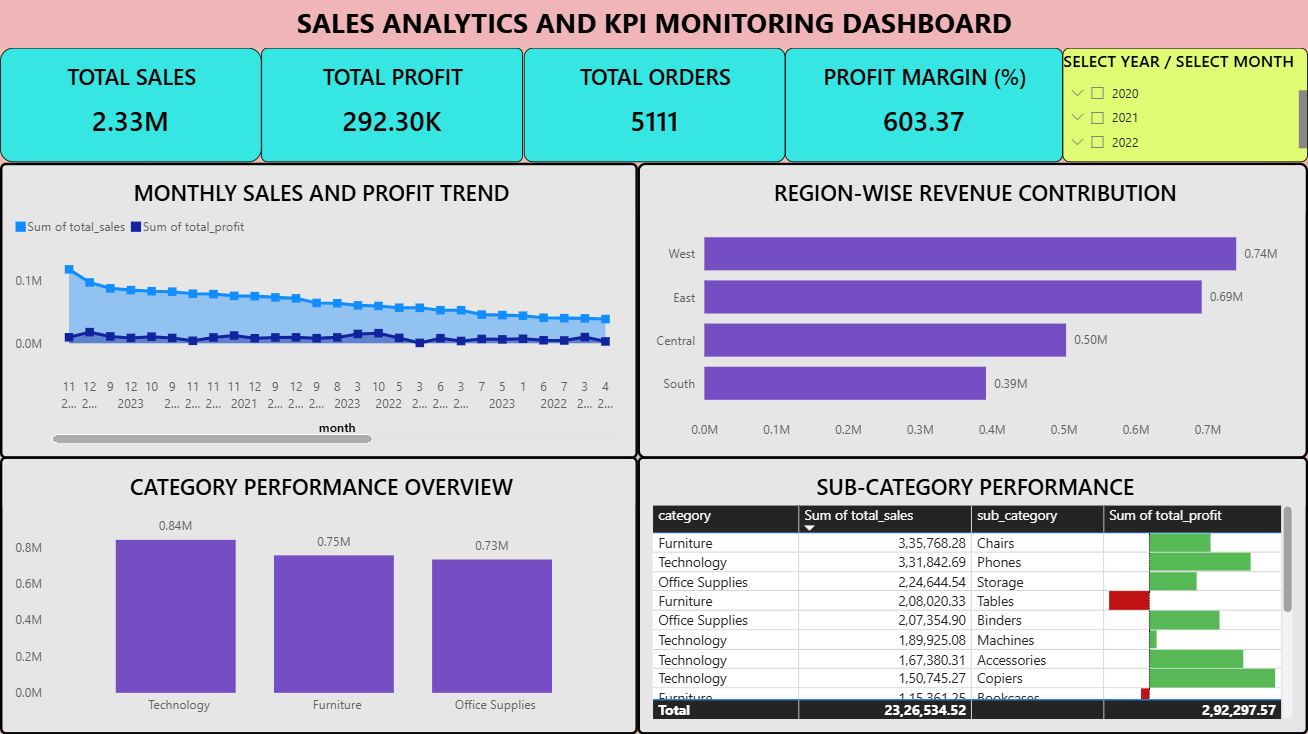

Layout of this report page (visuals, bound fields, positions):
{"tool":"powerbi","page":{"name":"Page 1","canvas":[1280,720],"ordinal":0},"visuals":[{"type":"card","title":"TOTAL SALES","fields":{"Values":["Sum(sales_performance kpi_overall.total_sales)"]},"box":[0,48,256,112],"z":0},{"type":"card","title":"TOTAL PROFIT","fields":{"Values":["Sum(sales_performance kpi_overall.total_profit)"]},"box":[256,48,256,112],"z":1000},{"type":"card","title":"PROFIT MARGIN (%)","fields":{"Values":["Sum(sales_performance kpi_overall.profit_margin_pct)"]},"box":[768,48,272,112],"z":2000},{"type":"card","title":"TOTAL ORDERS","fields":{"Values":["Sum(sales_performance kpi_overall.total_orders)"]},"box":[512,48,256,112],"z":3000},{"type":"lineChart","title":"MONTHLY SALES AND PROFIT TREND","fields":{"Category":["sales_performance kpi_overall.year","sales_performance kpi_overall.month"],"Y":["Sum(sales_performance kpi_overall.total_sales)","Sum(sales_performance kpi_overall.total_profit)"]},"box":[0,160.4,624.1,290],"z":4000},{"type":"barChart","title":"REGION-WISE REVENUE CONTRIBUTION","fields":{"Category":["sales_performance kpi_region.region"],"Y":["Sum(sales_performance kpi_region.total_sales)"]},"box":[624.1,160.4,656.2,290],"z":5000},{"type":"columnChart","title":"CATEGORY PERFORMANCE OVERVIEW","fields":{"Category":["sales_performance kpi_sub_category.category"],"Y":["Sum(sales_performance kpi_sub_category.total_sales)"]},"box":[0,448,624,272],"z":6000},{"type":"tableEx","title":"SUB-CATEGORY PERFORMANCE","fields":{"Values":["sales_performance kpi_sub_category.category","Sum(sales_performance kpi_sub_category.total_sales)","sales_performance kpi_sub_category.sub_category","Sum(sales_performance kpi_sub_category.total_profit)"]},"box":[624,448,656,272],"z":7000},{"type":"slicer","title":"SELECT YEAR / SELECT MONTH","fields":{"Values":["sales_performance kpi_overall.year","sales_performance kpi_overall.month"]},"box":[1040,48,240,112],"z":8000},{"type":"textbox","box":[0,0,1280,48],"z":8001}]}

Visuals, with their boxes in screenshot pixels (x1, y1, x2, y2), scaled from the page's 1280x720 canvas onto the 1308x734 screenshot:
"TOTAL SALES" card: 0,49,262,163
"TOTAL PROFIT" card: 262,49,523,163
"PROFIT MARGIN (%)" card: 785,49,1063,163
"TOTAL ORDERS" card: 523,49,785,163
"MONTHLY SALES AND PROFIT TREND" lineChart: 0,164,638,459
"REGION-WISE REVENUE CONTRIBUTION" barChart: 638,164,1307,459
"CATEGORY PERFORMANCE OVERVIEW" columnChart: 0,457,638,733
"SUB-CATEGORY PERFORMANCE" tableEx: 638,457,1307,733
"SELECT YEAR / SELECT MONTH" slicer: 1063,49,1307,163
textbox: 0,0,1307,49
